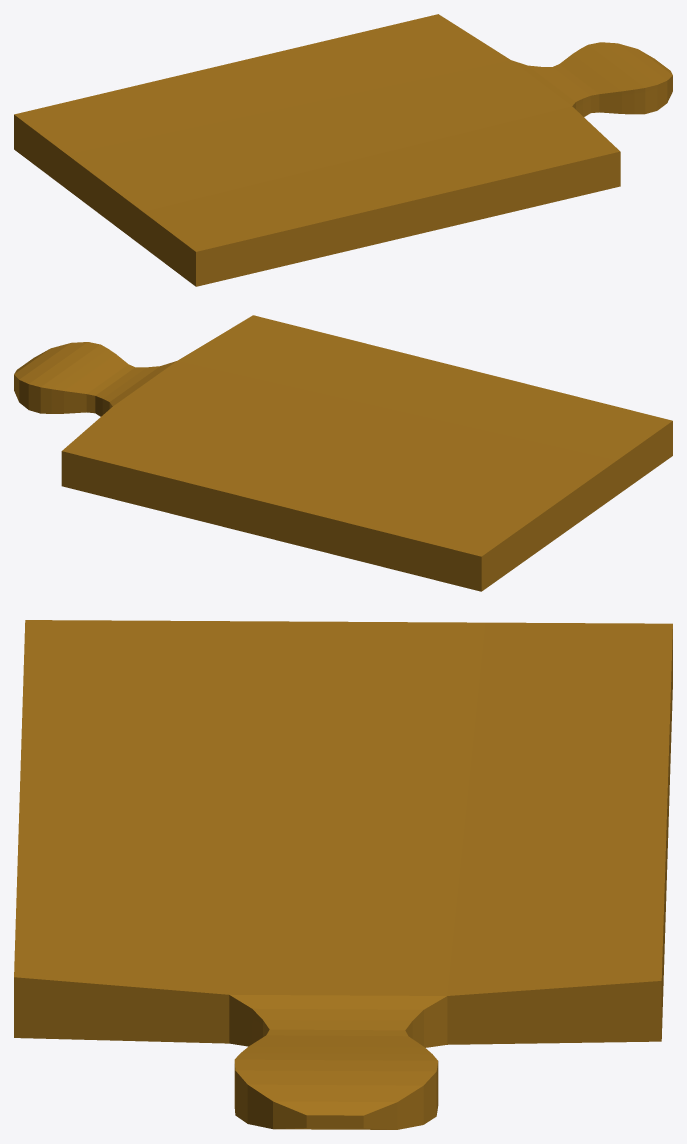
The model's file is foodtruckinside_choppingtable_table.obj.
3 views of the same model, one above another, from view 1: azimuth 30°, elevation 25°; view 2: azimuth 150°, elevation 25°; view 3: azimuth 270°, elevation 25° (orthographic). The views are drawn at different scales.
Visible parts, largest first — view 1: Cube.005; view 2: Cube.005; view 3: Cube.005.
Part boxes in pixels (box(x1,y1,x2,y2)): Cube.005: box(14, 14, 672, 286); Cube.005: box(14, 315, 672, 591); Cube.005: box(14, 620, 672, 1129).
Size of the model in its own units: 3.44 by 0.2065 by 2.03.
Materials: 1 (1 with a texture image).
